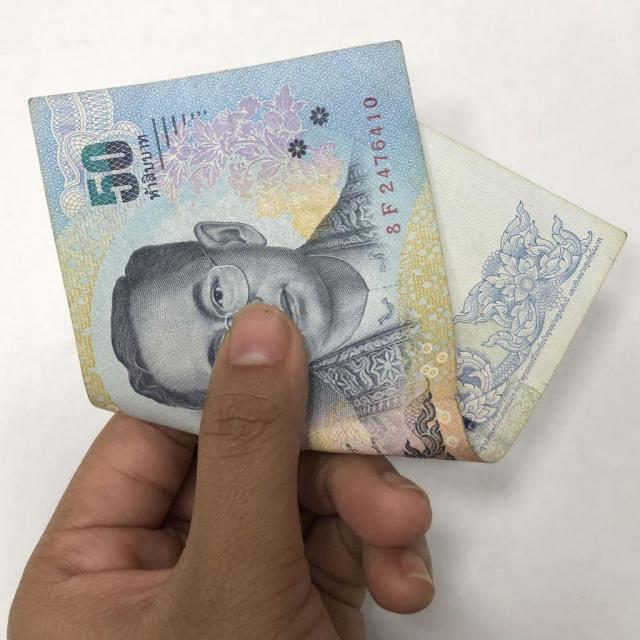THAI50: (29, 41, 623, 461)
